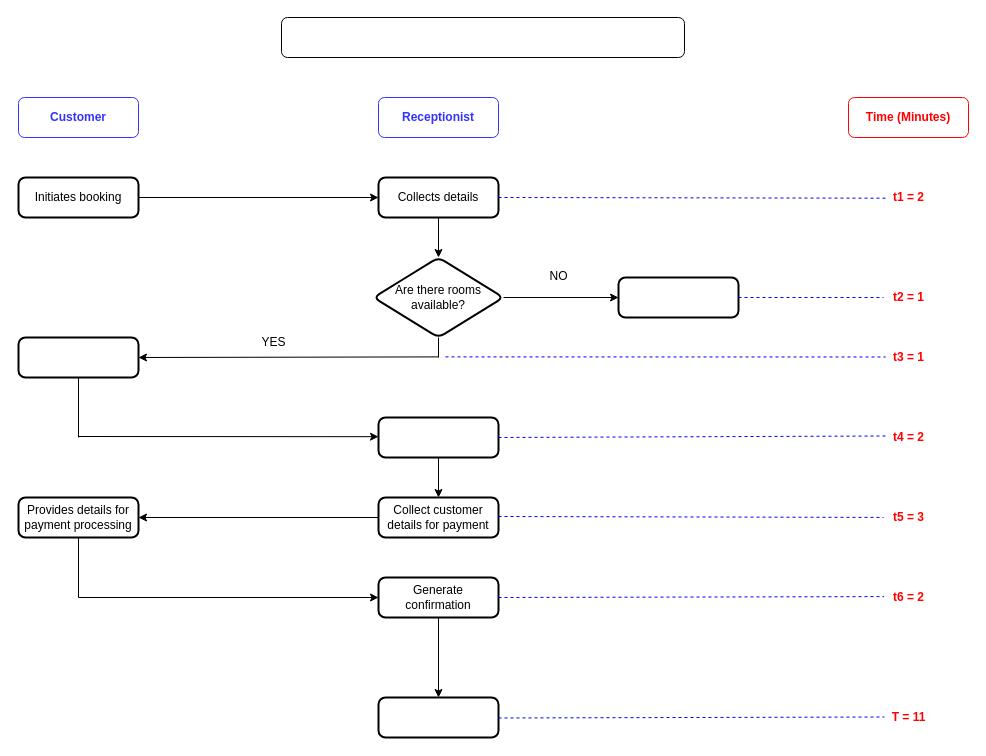
Image size: 986x756. Some labels were removed from this diagram. The box of each missing label's shape, as (x1, y1, x2, y2) in pixels:
Booking complete: (377, 696, 499, 738)
Cancel booking: (617, 276, 739, 318)
Confirm booking: (17, 336, 139, 378)
Store booking in the system: (377, 416, 499, 458)
System Flowchart of Baguio LeFern Hotel: (280, 16, 684, 58)
